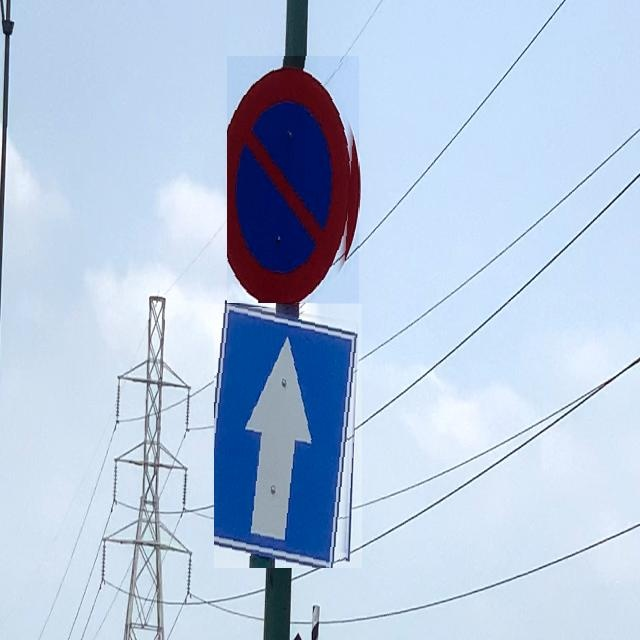bien_chi_dan: (214, 304, 362, 568), (228, 56, 360, 303)
